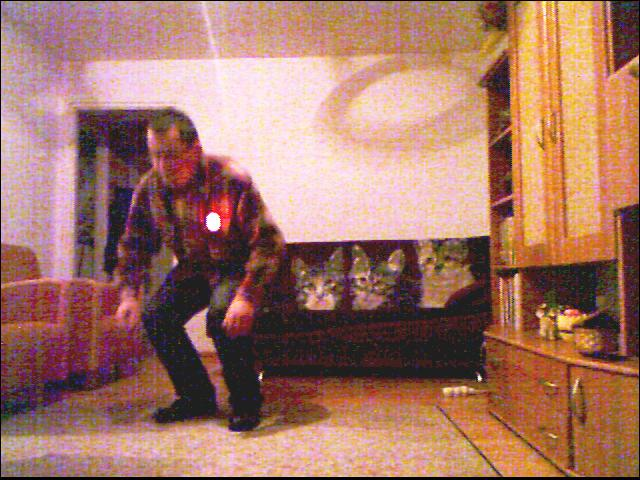sitting: (102, 93, 318, 447)
